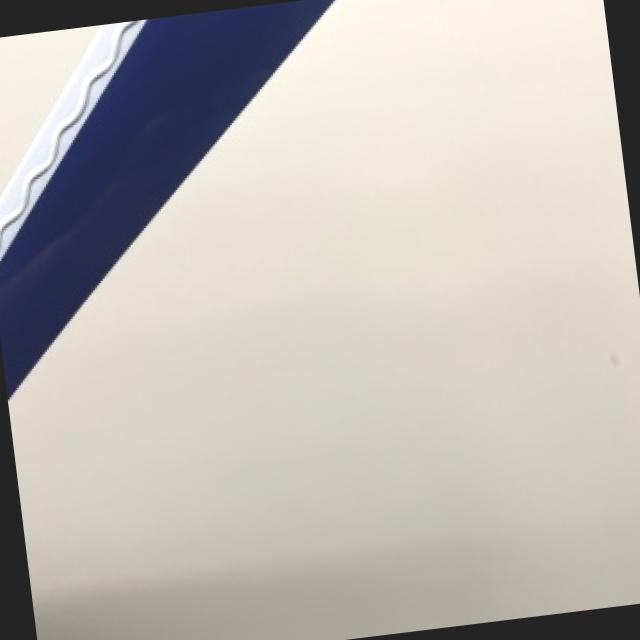healthy: (0, 0, 331, 395)
